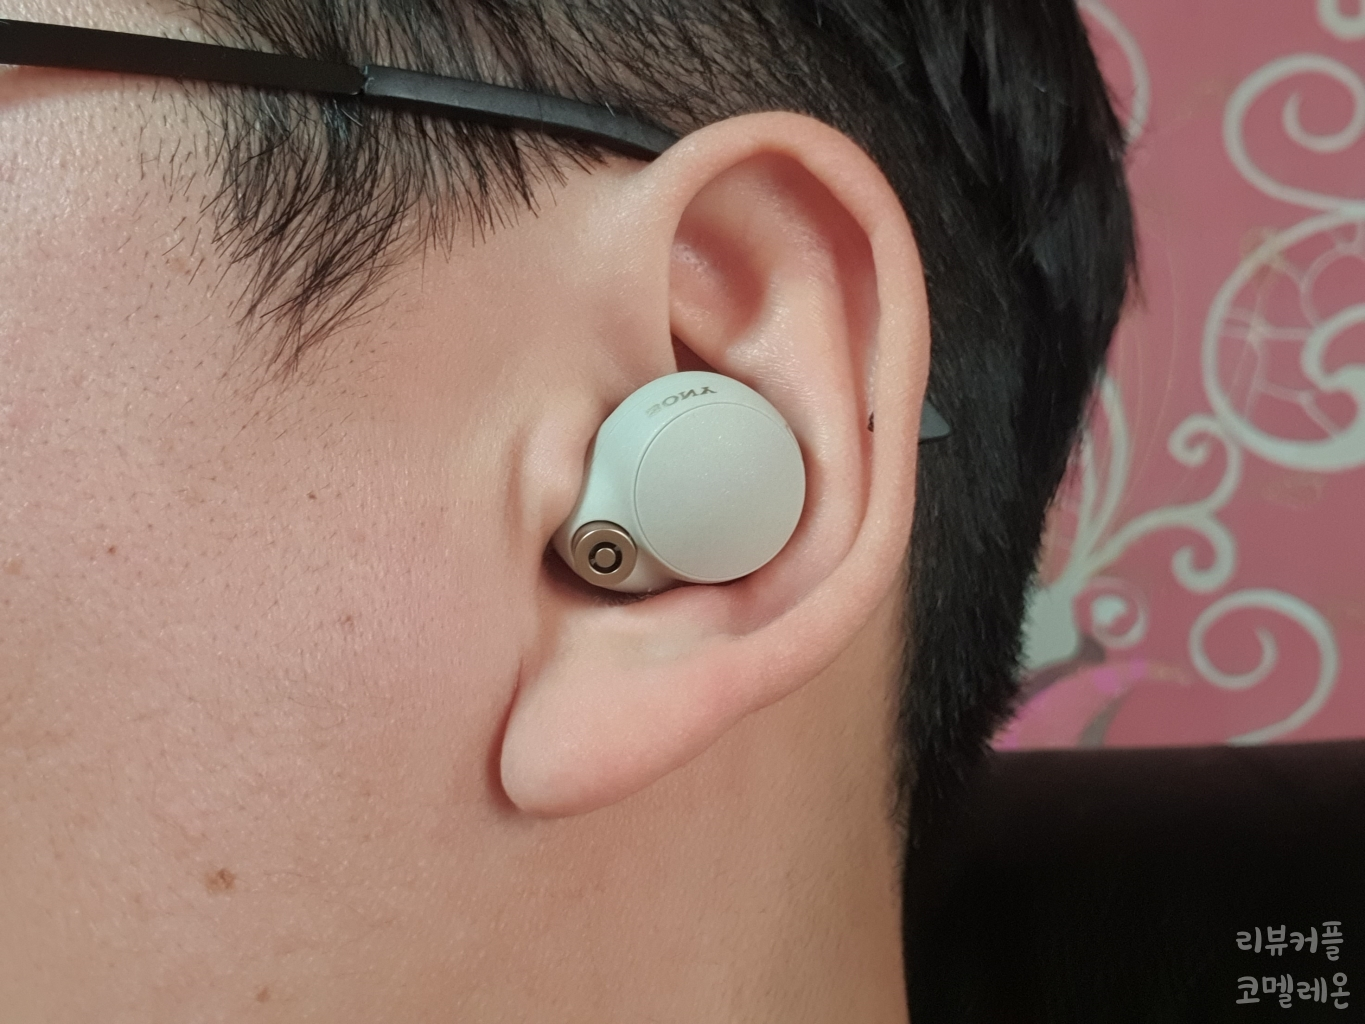earphone: (500, 111, 932, 816)
